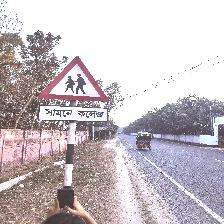College-in-front: (23, 49, 134, 150)
